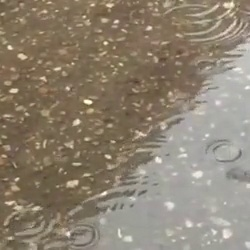drop: (164, 6, 238, 43), (5, 210, 51, 239), (205, 139, 242, 163), (69, 224, 101, 250), (225, 164, 250, 183), (196, 59, 215, 72)
